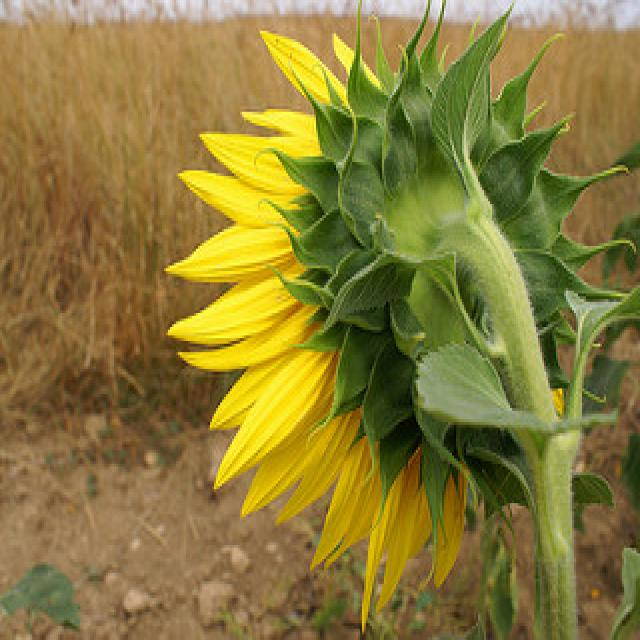sunflower: (158, 5, 584, 640)
